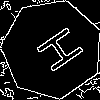H: (26, 24, 86, 80)
